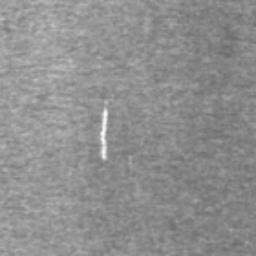White rust: (99, 108, 108, 160)
